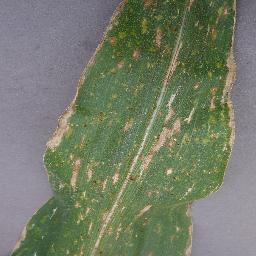Gray_Leaf_Spot: (11, 68, 240, 256), (74, 13, 253, 72), (196, 0, 236, 33), (106, 0, 166, 14), (172, 15, 187, 36), (182, 0, 194, 19), (160, 17, 171, 33), (48, 37, 50, 38)
